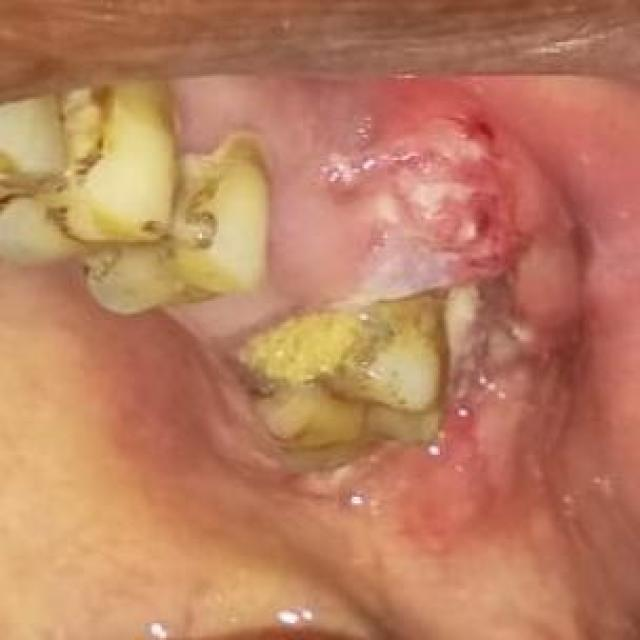cancer-detection: (303, 75, 596, 574)
processing_area: (0, 74, 638, 638)
